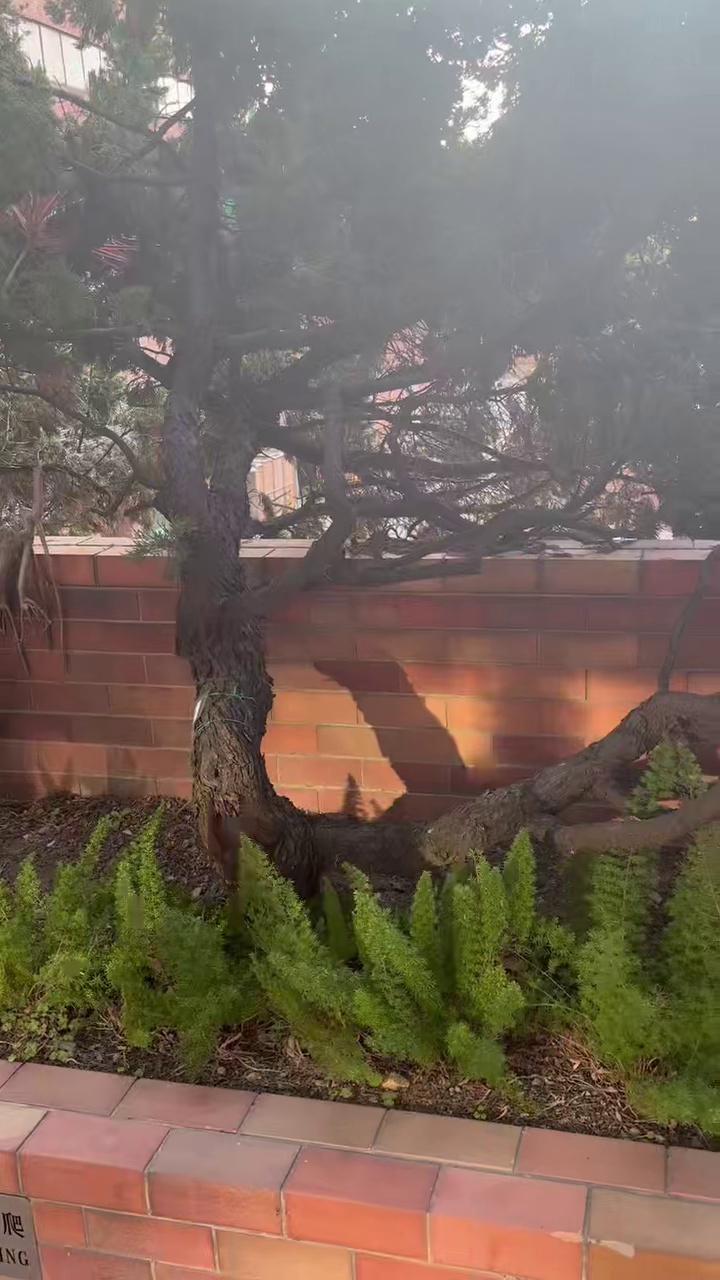Juniperus chinensis: (0, 0, 719, 855)
